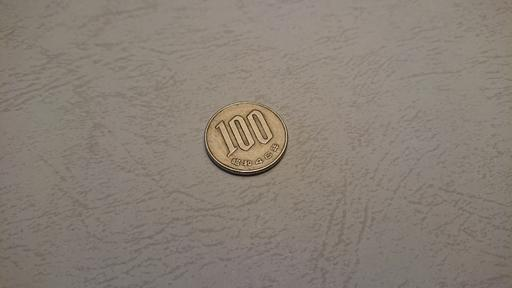100yen: (205, 102, 287, 175)
